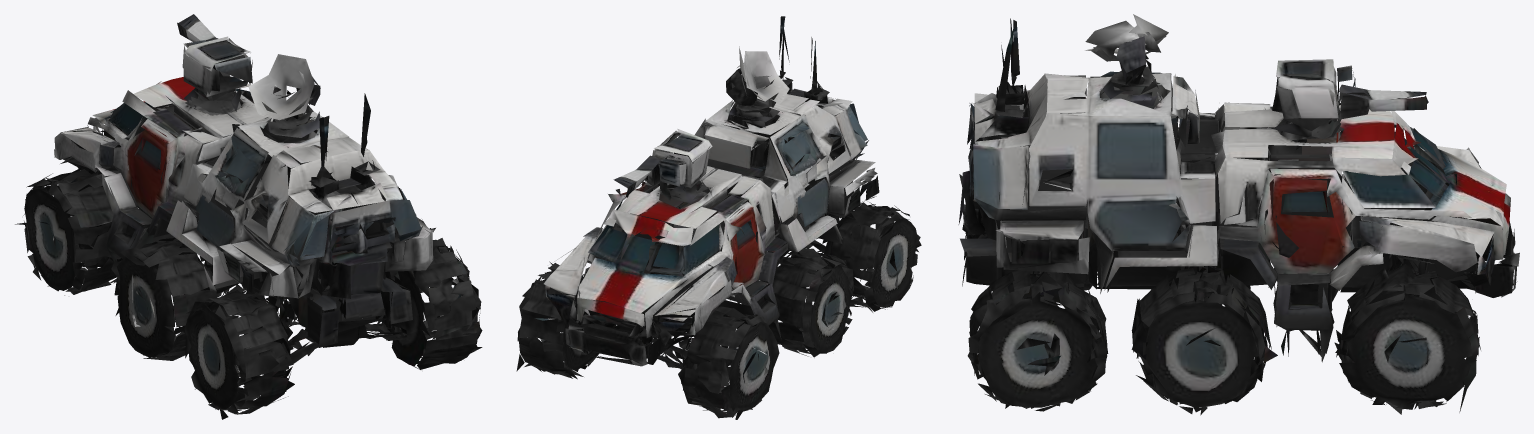
Rendered from lynx.glb.
3 renders of one model, left to right at view 1: azimuth 30°, elevation 25°; view 2: azimuth 150°, elevation 25°; view 3: azimuth 270°, elevation 25°, orthographic. The views are drawn at different scales.
Visible parts, largest first — view 1: Mesh_0; view 2: Mesh_0; view 3: Mesh_0.
Boxes of the visible parts, <box> form: Mesh_0: <box>15,14,482,419</box>; Mesh_0: <box>516,16,921,419</box>; Mesh_0: <box>958,14,1519,415</box>.
Size of the model in its own units: 0.6245 by 0.7022 by 1.02.
1 material, 1 textured.
